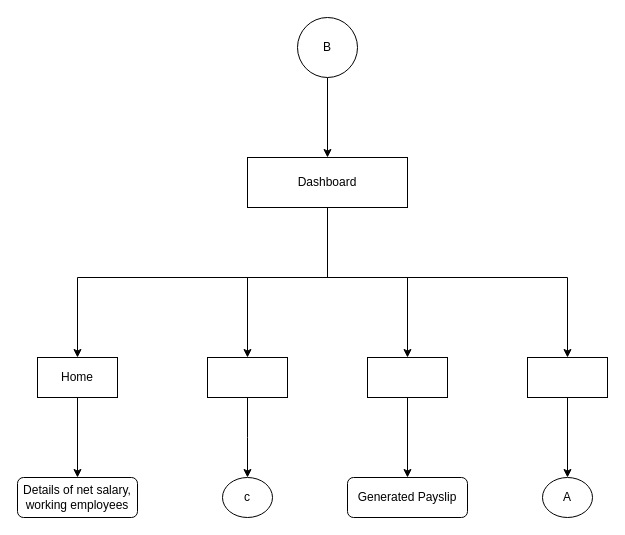
Some shapes in this 625 by 535 pixel diagram are drawn without their labels. Here are the shapes that lost their labels. From the top down, the box of each, then its label:
(206, 356, 288, 398): Employees
(366, 356, 448, 398): Payslip
(526, 356, 608, 398): Logout
